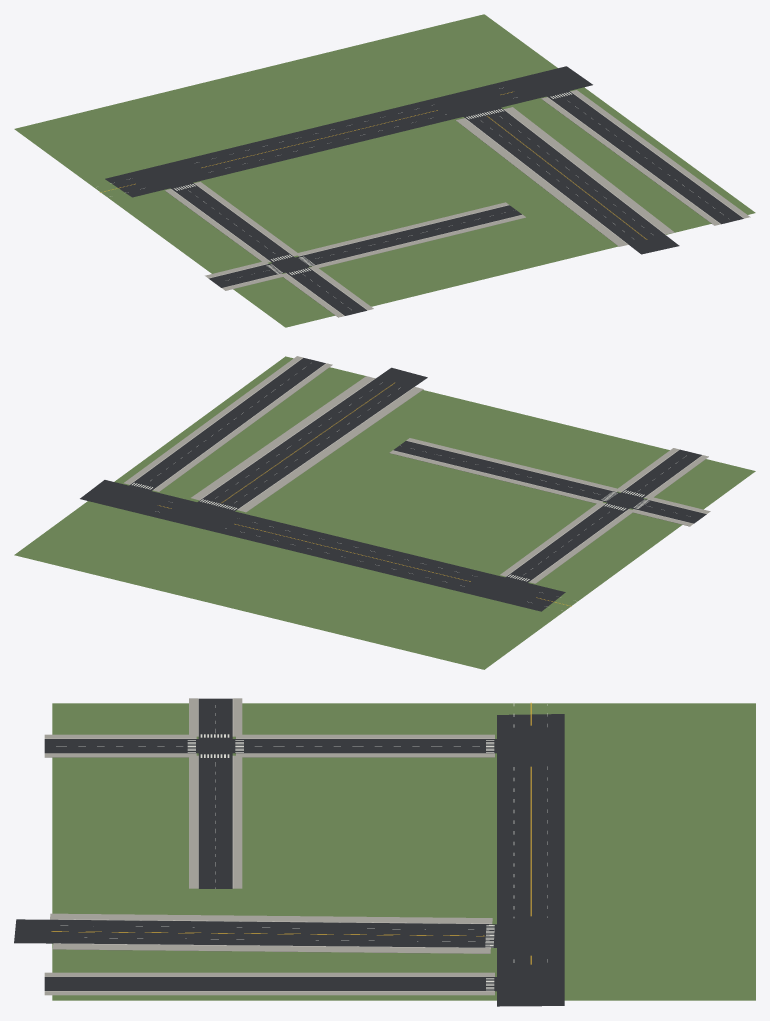
Rendered from Ground_2_7.fbx.
3 views of the same model, one above another, from view 1: azimuth 30°, elevation 25°; view 2: azimuth 150°, elevation 25°; view 3: azimuth 270°, elevation 25° (orthographic). The views are drawn at different scales.
Visible parts, largest first — view 1: Ground_2_7; view 2: Ground_2_7; view 3: Ground_2_7.
Boxes of the visible parts, left/top/right/bottom form: Ground_2_7: left=14, top=14, right=755, bottom=327; Ground_2_7: left=14, top=356, right=755, bottom=669; Ground_2_7: left=14, top=698, right=755, bottom=1006.
Bounding box in the file's own units: 259 × 0.1 × 264.
